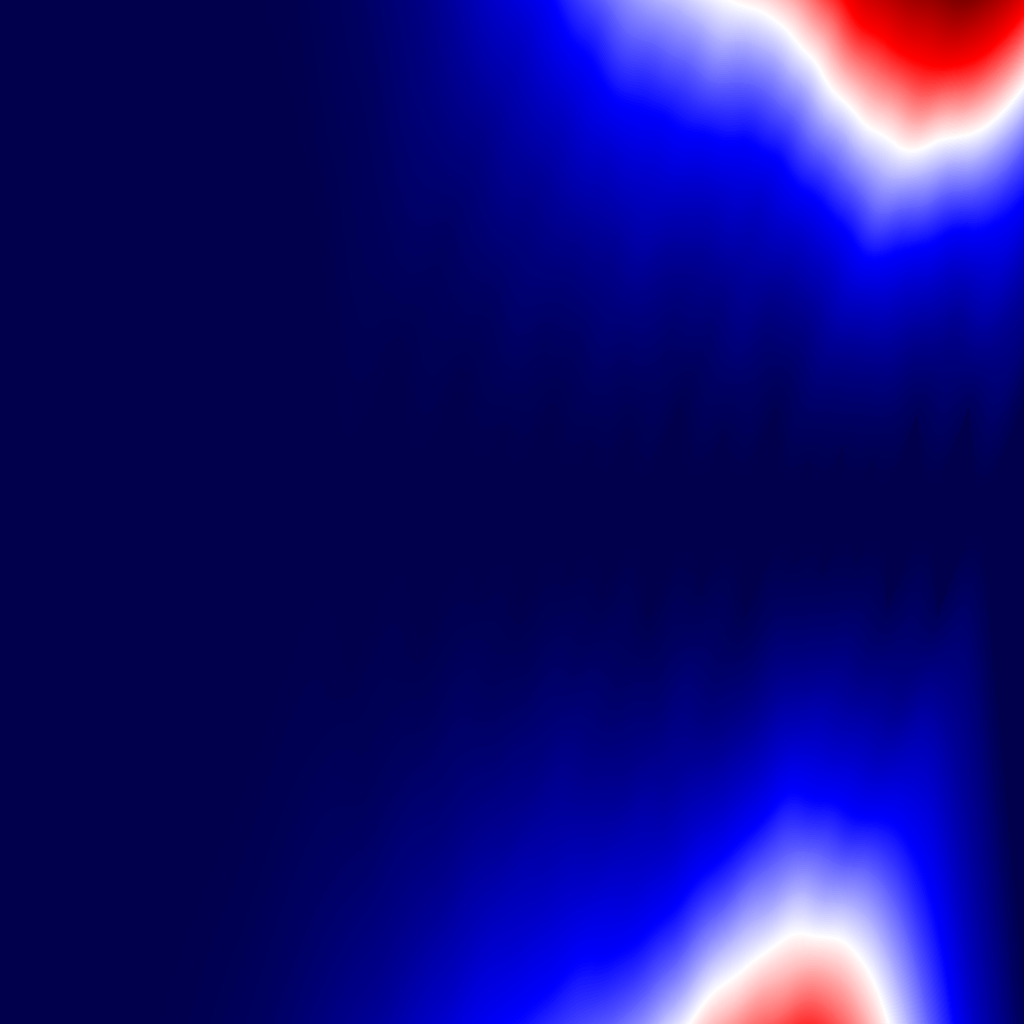diamond: (206, 241, 338, 783), (338, 357, 413, 667), (414, 393, 472, 631), (639, 399, 694, 625), (737, 403, 790, 621), (931, 405, 983, 619), (881, 411, 930, 613), (516, 412, 564, 612), (472, 424, 515, 600), (695, 425, 737, 599), (564, 435, 601, 589), (602, 435, 639, 589), (819, 443, 852, 581), (853, 454, 881, 570), (791, 455, 819, 569)
